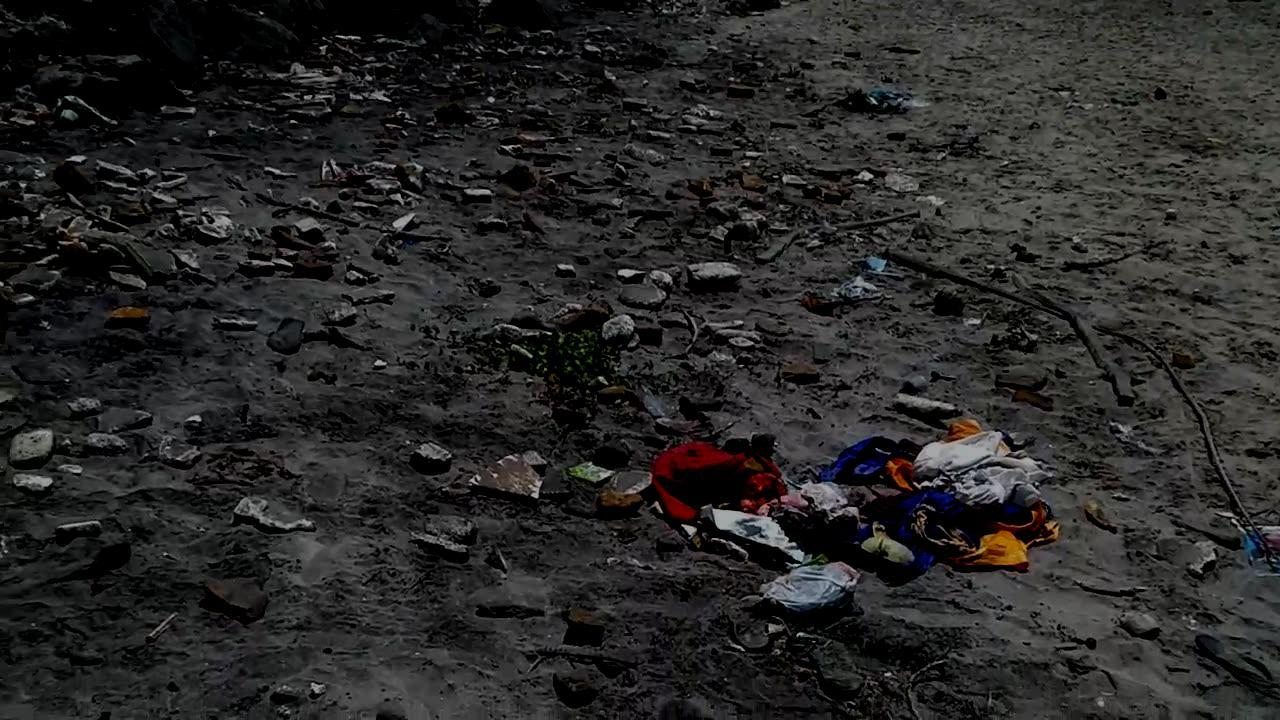large collection of objects: (684, 161, 916, 254), (188, 551, 268, 619), (468, 574, 550, 617), (10, 424, 53, 468)
obj: (644, 414, 1062, 588), (2, 162, 230, 307), (1086, 322, 1246, 514), (458, 72, 748, 140), (1038, 294, 1134, 410), (881, 244, 1039, 309), (512, 332, 613, 425), (752, 559, 864, 628), (670, 393, 770, 450), (312, 160, 428, 208), (236, 219, 336, 274), (1193, 634, 1279, 696), (62, 397, 152, 456), (275, 65, 395, 103), (465, 450, 550, 502), (802, 276, 892, 316), (230, 494, 314, 536), (807, 634, 860, 700), (402, 523, 480, 565), (836, 88, 930, 116), (613, 266, 675, 308), (1229, 526, 1279, 572), (884, 392, 968, 417), (268, 315, 310, 356), (686, 258, 742, 288), (778, 357, 832, 387), (594, 314, 635, 348), (559, 608, 606, 636), (600, 488, 644, 517), (159, 439, 207, 465), (404, 446, 456, 470), (105, 306, 152, 330), (936, 286, 964, 315), (464, 189, 496, 202), (556, 265, 578, 278)
sand/background: (2, 0, 798, 146)
